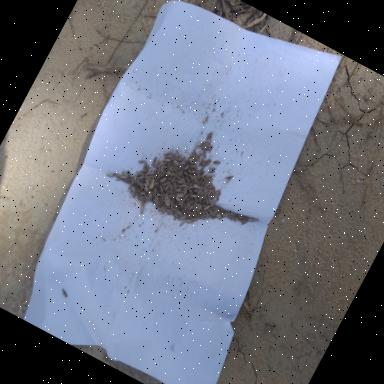pbw: (135, 180, 147, 192), (128, 172, 140, 184), (195, 152, 206, 165), (178, 202, 189, 214), (176, 180, 187, 192), (118, 174, 131, 184), (157, 191, 167, 204), (204, 182, 216, 192), (168, 168, 178, 180), (179, 193, 189, 205), (162, 154, 172, 166), (222, 172, 232, 184), (174, 190, 185, 200), (184, 188, 194, 199), (174, 175, 186, 184), (178, 216, 187, 228), (171, 207, 183, 216), (234, 212, 244, 222), (190, 174, 200, 184), (181, 158, 191, 168), (140, 182, 150, 192), (152, 195, 162, 205), (170, 203, 180, 213), (212, 192, 222, 202), (200, 190, 209, 201), (168, 198, 176, 210), (138, 202, 146, 214), (160, 178, 169, 188), (186, 210, 195, 220), (164, 187, 174, 196), (200, 149, 209, 159), (202, 156, 211, 166), (205, 204, 214, 214), (204, 195, 213, 205), (136, 172, 145, 182), (183, 200, 192, 210), (210, 157, 220, 166), (168, 174, 176, 185), (192, 153, 200, 164), (162, 180, 170, 191), (154, 171, 162, 182), (196, 213, 207, 221), (174, 211, 182, 222), (202, 202, 210, 213), (195, 186, 203, 197), (209, 197, 217, 208), (189, 191, 198, 200), (137, 194, 146, 203), (142, 178, 151, 187), (205, 130, 213, 140), (175, 161, 183, 171), (134, 176, 142, 186), (166, 192, 176, 200), (158, 174, 166, 184), (170, 159, 180, 167), (194, 171, 202, 181), (182, 175, 192, 183), (202, 196, 210, 206), (196, 140, 204, 150), (150, 156, 158, 166), (132, 170, 140, 180), (170, 182, 178, 192), (166, 166, 176, 174), (130, 188, 138, 198), (128, 176, 136, 186), (210, 188, 218, 198), (176, 168, 184, 178), (164, 150, 174, 158), (239, 214, 247, 224), (204, 141, 214, 149), (178, 154, 186, 164), (208, 187, 216, 197), (146, 190, 154, 199), (240, 217, 248, 226), (163, 198, 172, 206), (191, 182, 200, 190), (178, 213, 186, 222), (156, 184, 164, 193), (249, 216, 258, 224), (176, 198, 184, 207), (140, 161, 148, 170), (200, 141, 207, 151), (155, 165, 162, 175), (192, 203, 199, 213), (144, 168, 151, 178), (138, 158, 146, 166), (124, 170, 132, 178), (180, 211, 188, 219), (202, 212, 210, 220), (206, 208, 214, 216), (112, 172, 120, 180), (172, 148, 180, 156), (164, 170, 172, 178), (146, 170, 154, 178), (185, 218, 194, 225), (195, 204, 202, 213), (208, 144, 214, 154), (152, 184, 158, 194), (179, 172, 186, 180), (200, 158, 207, 166), (167, 182, 174, 190), (188, 162, 196, 169), (157, 206, 165, 213), (198, 164, 205, 172), (174, 186, 181, 194), (202, 209, 210, 216), (190, 215, 198, 222), (221, 211, 229, 218), (144, 174, 152, 181), (204, 172, 212, 179), (214, 212, 222, 219), (174, 195, 182, 202), (138, 171, 146, 178), (187, 151, 194, 159), (218, 206, 225, 214), (246, 215, 254, 222), (154, 191, 162, 198), (106, 171, 114, 178), (186, 173, 194, 180), (178, 164, 186, 171), (199, 168, 206, 176), (172, 154, 180, 161), (226, 213, 234, 220), (233, 212, 241, 219), (158, 163, 164, 172), (162, 199, 169, 206), (196, 209, 203, 216), (199, 172, 206, 179), (203, 146, 211, 152), (197, 194, 203, 202), (188, 204, 194, 212), (183, 163, 189, 171), (182, 187, 188, 195), (120, 170, 128, 176), (208, 164, 216, 170), (226, 210, 234, 216), (188, 165, 196, 171), (187, 158, 195, 164), (212, 208, 218, 216), (114, 176, 122, 182), (232, 216, 240, 222), (196, 152, 202, 160), (165, 208, 173, 214), (165, 210, 173, 216), (182, 156, 188, 164), (186, 166, 192, 174), (154, 160, 160, 168), (188, 178, 195, 184), (144, 163, 150, 170), (175, 179, 182, 185), (192, 195, 198, 202), (183, 184, 189, 191), (130, 186, 137, 192), (144, 198, 151, 204), (208, 168, 215, 174), (216, 188, 222, 195), (152, 165, 158, 172), (152, 160, 157, 168), (162, 160, 168, 166), (196, 198, 202, 204), (192, 200, 198, 206), (210, 214, 216, 220), (160, 208, 166, 214), (196, 194, 202, 200), (200, 203, 206, 209), (208, 176, 213, 183), (138, 190, 145, 195), (191, 203, 196, 209), (201, 176, 206, 182), (190, 153, 195, 159), (188, 185, 194, 190), (201, 209, 206, 215), (184, 196, 190, 201), (142, 168, 148, 173), (200, 179, 205, 185), (182, 172, 189, 176), (197, 201, 202, 206), (192, 212, 196, 218), (186, 188, 192, 192), (190, 169, 194, 174), (162, 164, 166, 169), (174, 178, 178, 183), (156, 160, 160, 164), (192, 188, 196, 192)
